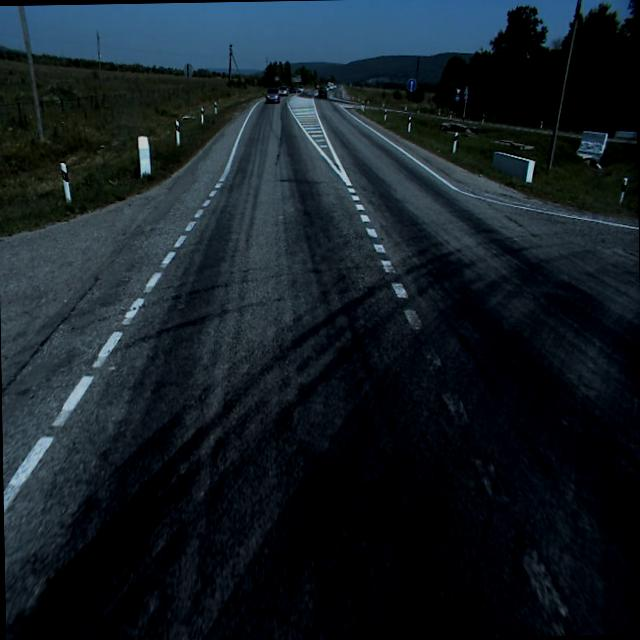road: (0, 90, 640, 640)
